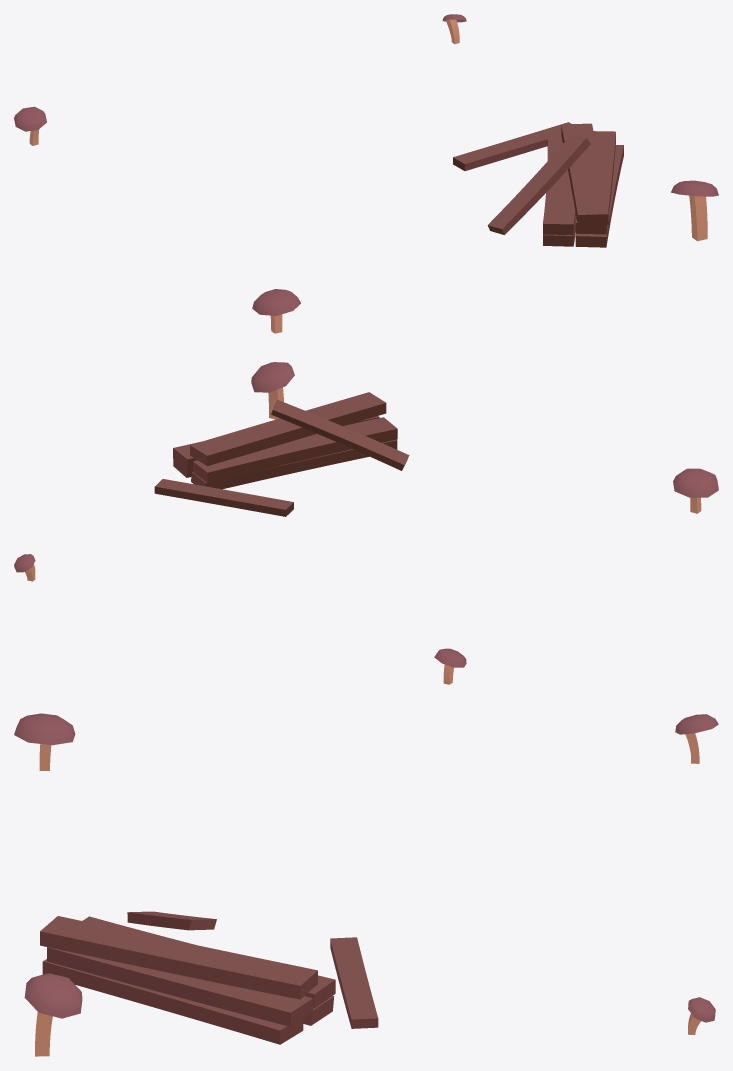
File: House_Construction_3x3.glb
3 views of the same model, one above another, from view 1: azimuth 30°, elevation 25°; view 2: azimuth 150°, elevation 25°; view 3: azimuth 270°, elevation 25° (orthographic). The views are drawn at different scales.
Visible parts, largest first — view 1: Cube.030, Cube.040, Cube.028, Cube.039, Cube.029, Cube.038, Cube.027, Cube.034, Cube.035, Cube.036; view 2: Cube.030, Cube.028, Cube.040, Cube.039, Cube.026, Cube.038, Cube.036; view 3: Cube.030, Cube.029, Cube.027, Cube.039, Cube.036, Cube.038, Cube.040, Cube.028, Cube.034, Cube.035.
Boxes of the visible parts, x1,y1,x2,y2 form: Cube.030: (561, 123, 608, 225); Cube.040: (487, 134, 590, 234); Cube.028: (543, 131, 575, 235); Cube.039: (453, 122, 571, 170); Cube.029: (576, 131, 615, 234); Cube.038: (252, 289, 300, 315); Cube.027: (575, 145, 623, 247); Cube.034: (689, 195, 707, 241); Cube.035: (14, 106, 46, 131); Cube.036: (671, 180, 718, 196); Cube.030: (190, 392, 386, 465); Cube.028: (193, 417, 397, 483); Cube.040: (271, 399, 409, 470); Cube.039: (154, 479, 293, 516); Cube.026: (191, 439, 397, 489); Cube.038: (673, 468, 718, 497); Cube.036: (251, 362, 294, 392); Cube.030: (40, 916, 317, 999); Cube.029: (47, 947, 312, 1026); Cube.027: (42, 959, 303, 1044); Cube.039: (330, 937, 378, 1028); Cube.036: (24, 973, 82, 1018); Cube.038: (14, 713, 75, 745); Cube.040: (127, 911, 216, 930); Cube.028: (82, 916, 335, 1008); Cube.034: (35, 1012, 52, 1056); Cube.035: (675, 714, 718, 734).
Bounding box in the file's own units: 3.24 × 0.4911 × 3.25.
1 material, 1 textured.
